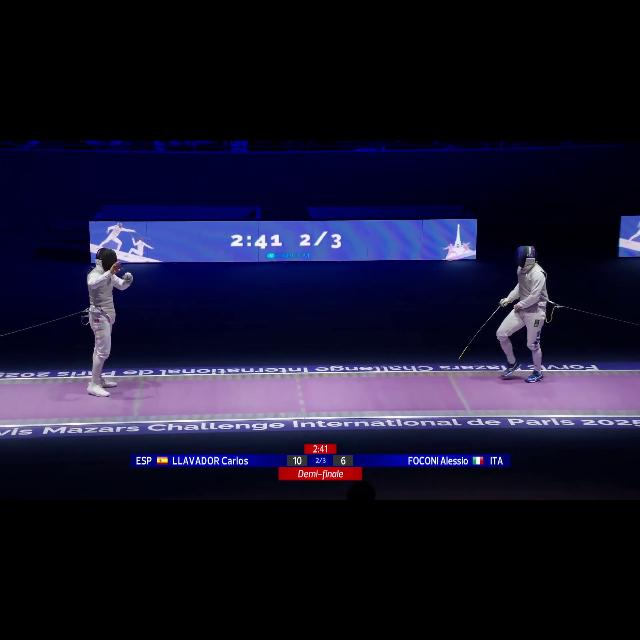blade: (452, 300, 506, 366)
